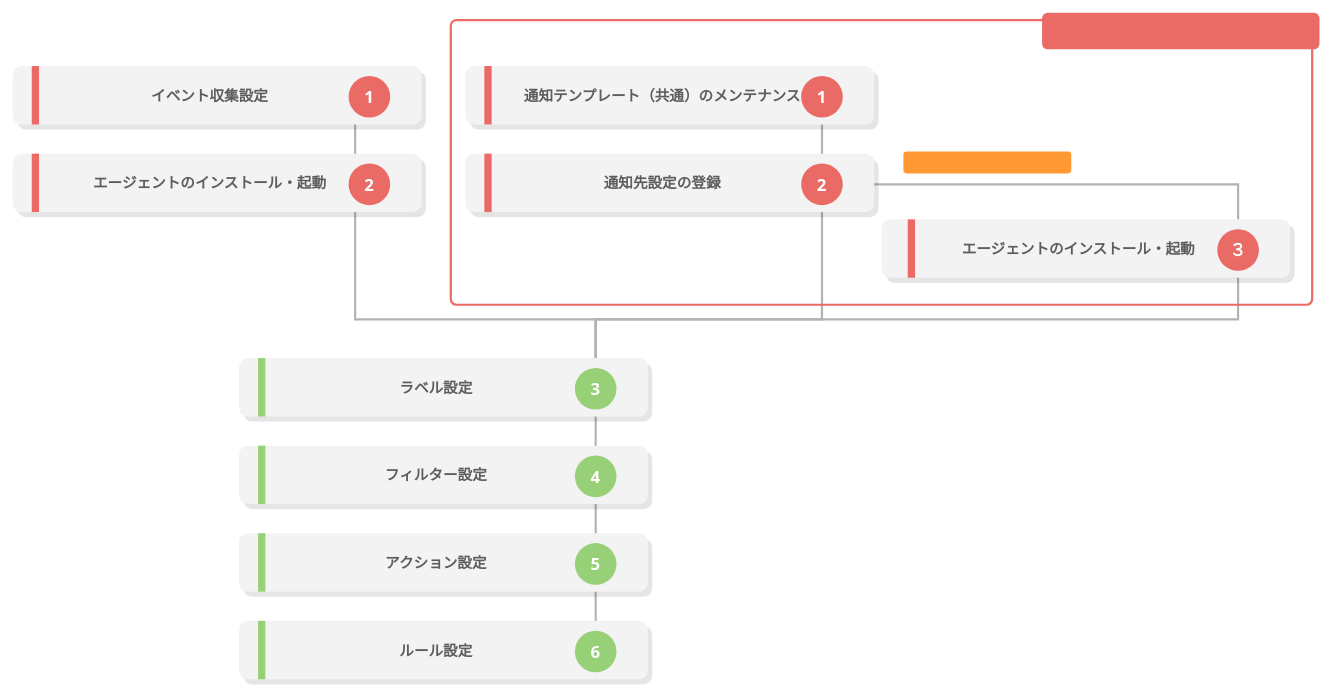
Image size: 1332x696. Some labels were removed from this diagram. The centre of each missing label's shape, as x and y in pixels:
"通知テンプレート（共通）の利用に必要な作業" goes at (1180,30).
"通知先がメールの方のみ" goes at (987,162).
